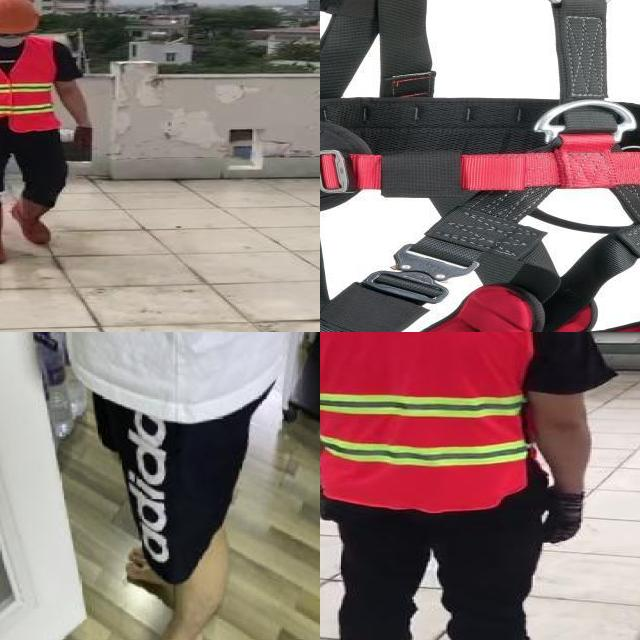Harness: (320, 0, 640, 332)
Sandals: (108, 600, 231, 640)
boots: (10, 193, 58, 245), (0, 206, 10, 264)
face_mask: (0, 27, 30, 47)
hand_glove: (544, 488, 582, 543), (72, 128, 98, 148)
head_helmet: (0, 0, 42, 34)
person: (320, 332, 618, 640), (0, 0, 100, 271)
vest: (320, 332, 543, 511), (0, 38, 59, 132)
